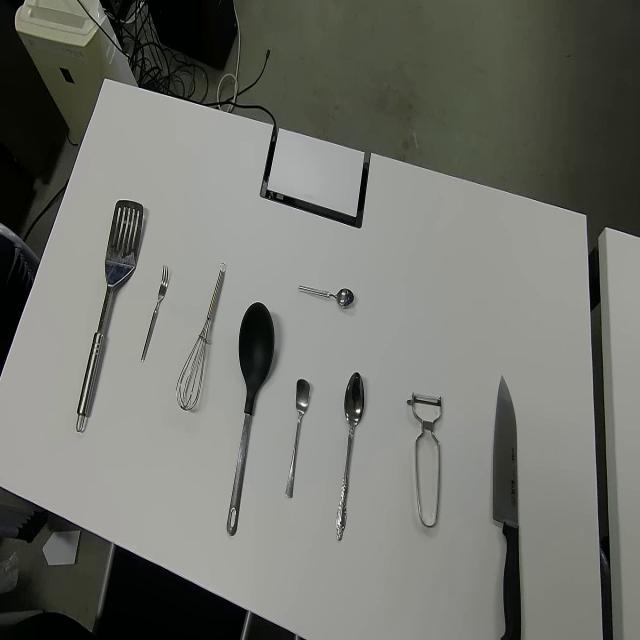Desert-Spoon: (336, 370, 365, 540)
Dinner-Fork: (140, 265, 170, 366)
Kitchen-Knife: (492, 371, 522, 639)
Peeler: (406, 389, 443, 528)
Serving-Spoon: (74, 200, 144, 437), (226, 300, 275, 536)
Tea-Spoon: (285, 376, 311, 497), (298, 282, 355, 309)
Whisk: (174, 262, 226, 413)
